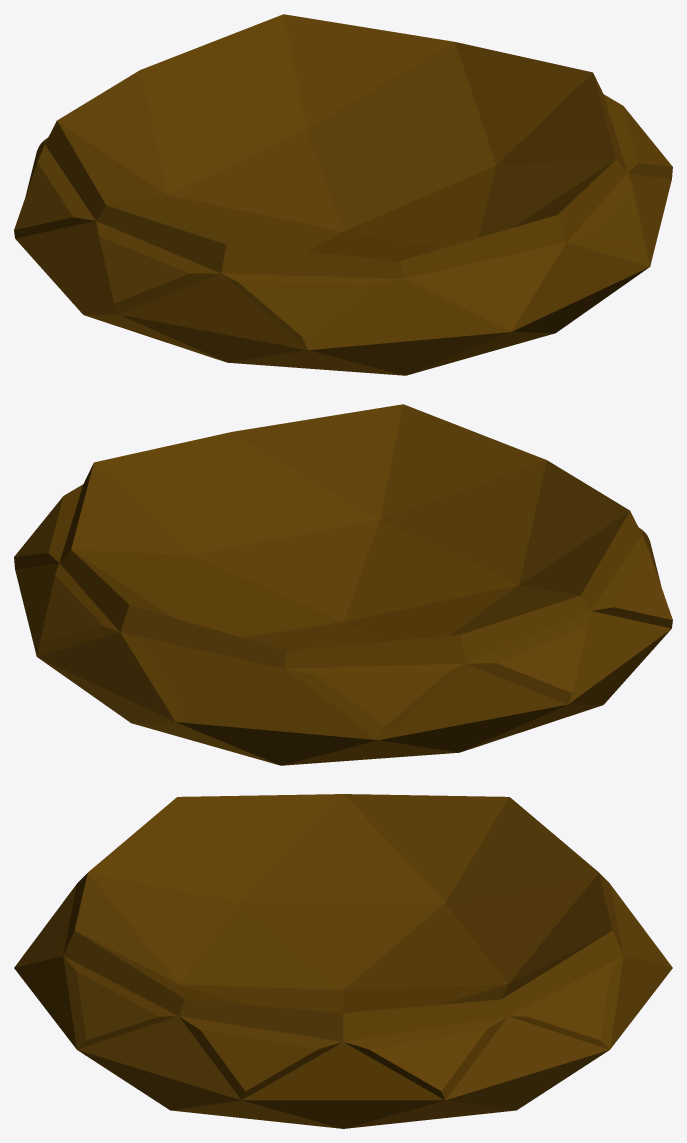
The model's file is Nest.fbx.
3 renders of one model, top to bottom at view 1: azimuth 30°, elevation 25°; view 2: azimuth 150°, elevation 25°; view 3: azimuth 270°, elevation 25°, orthographic.
Parts seen in each view (by area): view 1: Icosphere; view 2: Icosphere; view 3: Icosphere.
Part boxes in pixels (<box>): Icosphere: <box>14,14,672,375</box>; Icosphere: <box>14,404,672,765</box>; Icosphere: <box>14,794,672,1128</box>.
Bounding box in the file's own units: 158 × 33.19 × 164.
